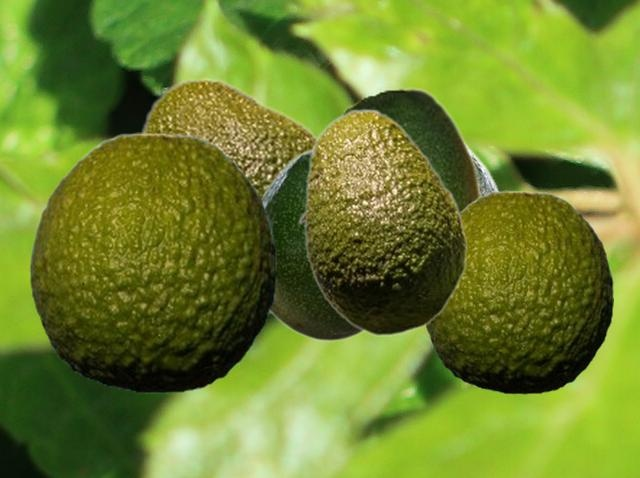avocado: (29, 132, 275, 392), (137, 77, 317, 314), (297, 108, 467, 335), (423, 190, 612, 393), (260, 148, 363, 341), (337, 87, 480, 208)
